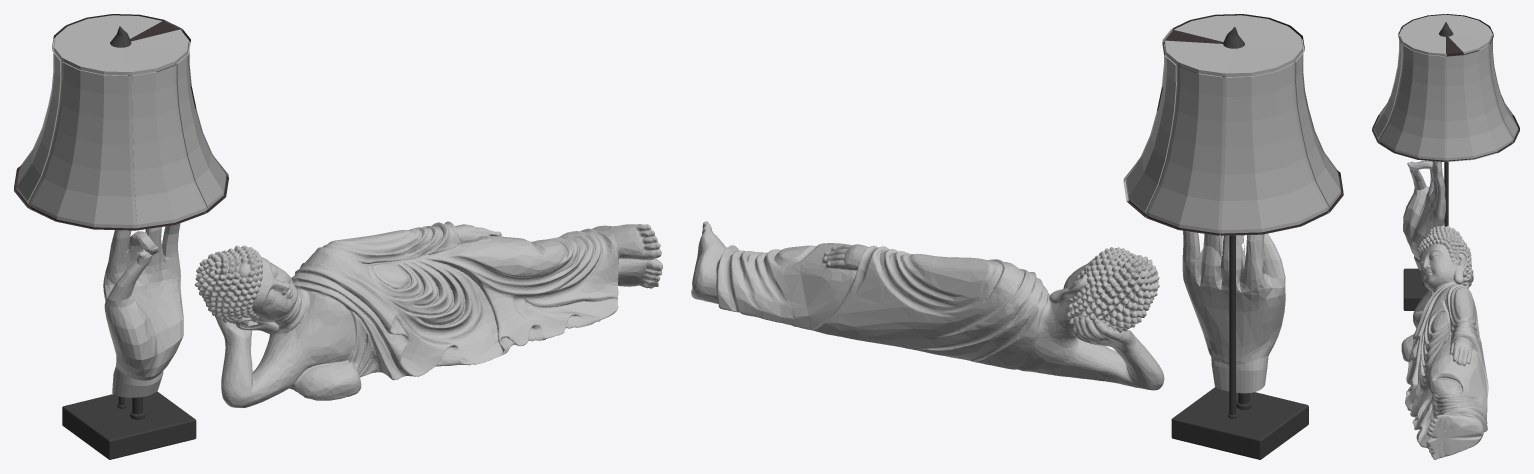
File: statue_reclining.glb
The picture shows the model from 3 angles, left to right: view 1: azimuth 30°, elevation 25°; view 2: azimuth 150°, elevation 25°; view 3: azimuth 270°, elevation 25°; orthographic projection. The views are drawn at different scales.
Visible parts, largest first — view 1: statue_reclining_raw.glb; view 2: statue_reclining_raw.glb; view 3: statue_reclining_raw.glb.
Part boxes in pixels (bbox=[...]): statue_reclining_raw.glb: bbox=[14, 14, 662, 459]; statue_reclining_raw.glb: bbox=[691, 14, 1343, 459]; statue_reclining_raw.glb: bbox=[1372, 14, 1519, 459].
Size of the model in its own units: 7.5 by 4.63 by 2.26.
Materials: 1 (1 with a texture image).
